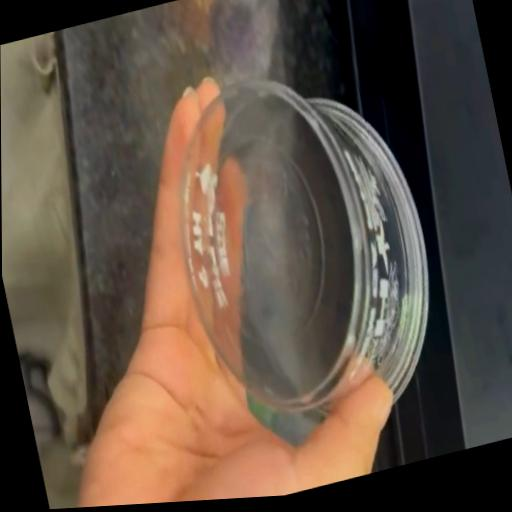ly_nhua: (182, 82, 428, 413)
